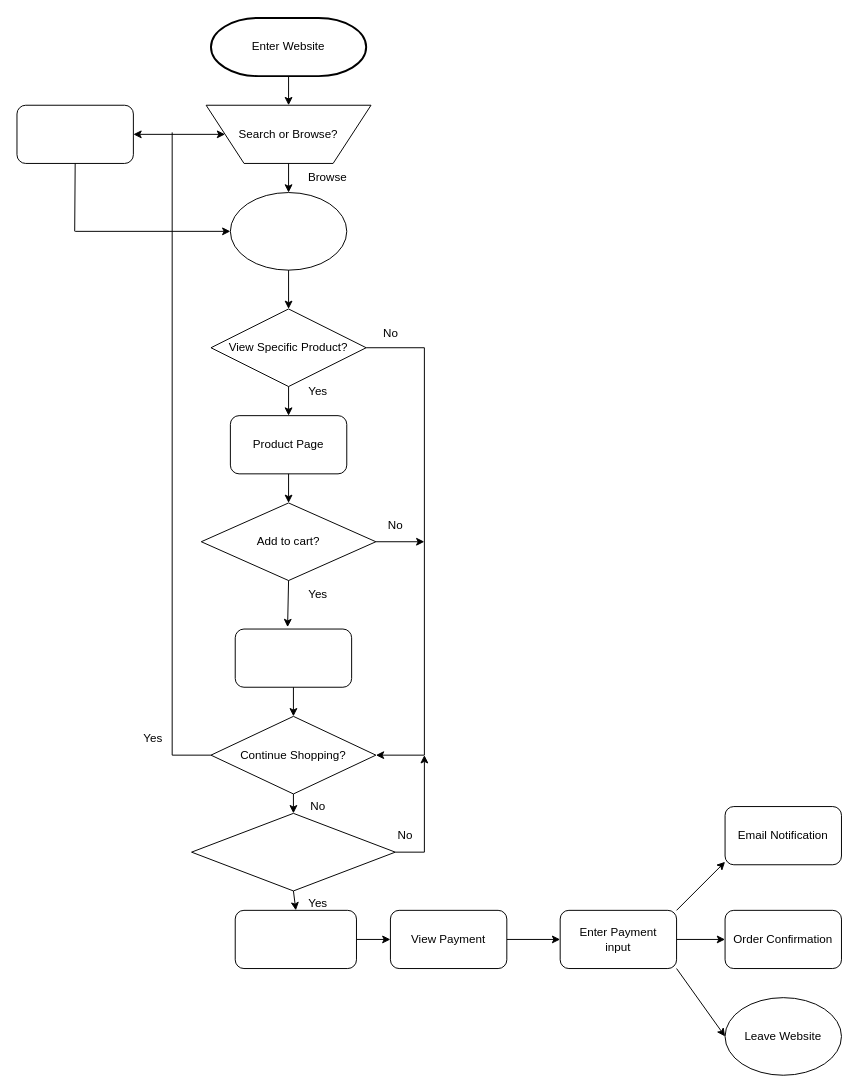
Image size: 858x1092. Some labels were removed from this diagram. Here are the shapes that lost their labels. From the top down, the centre of each, then its label:
[74,133]: Search input
[288,231]: Browse Products
[293,657]: Added to Cart
[293,851]: Checkout?
[295,939]: View Cart
